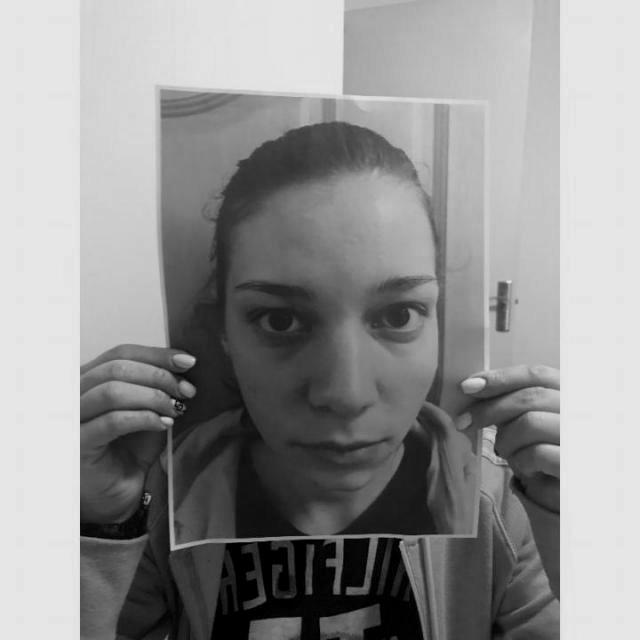fake: (146, 81, 496, 559)
